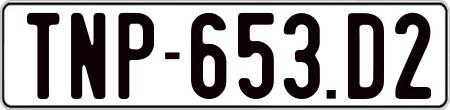2: (394, 10, 431, 102)
3: (283, 10, 319, 98)
5: (238, 11, 274, 98)
6: (191, 12, 231, 100)
D: (347, 13, 389, 101)
N: (71, 11, 111, 103)
P: (115, 11, 152, 100)
T: (25, 10, 60, 98)
